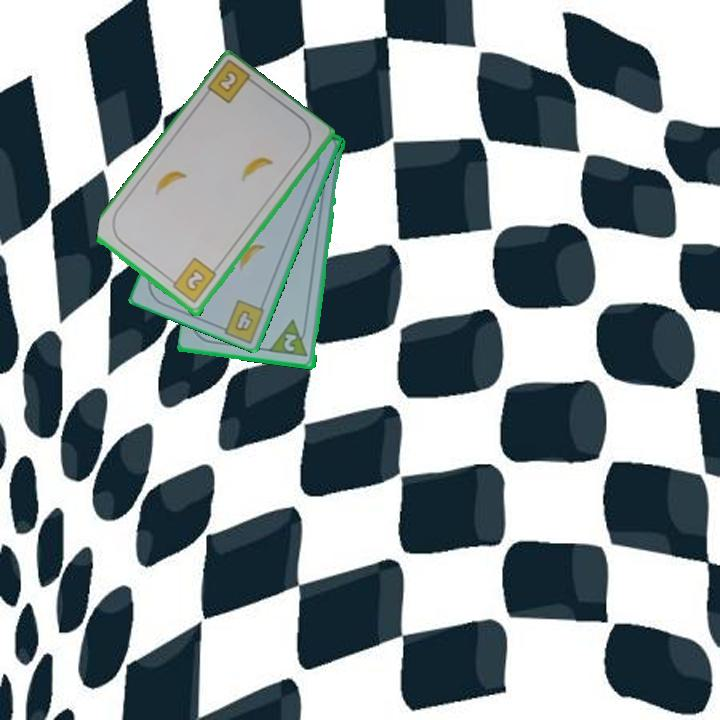2b: (165, 255, 219, 306), (204, 59, 260, 107)
2p: (268, 317, 311, 360)
4b: (231, 307, 256, 335)
